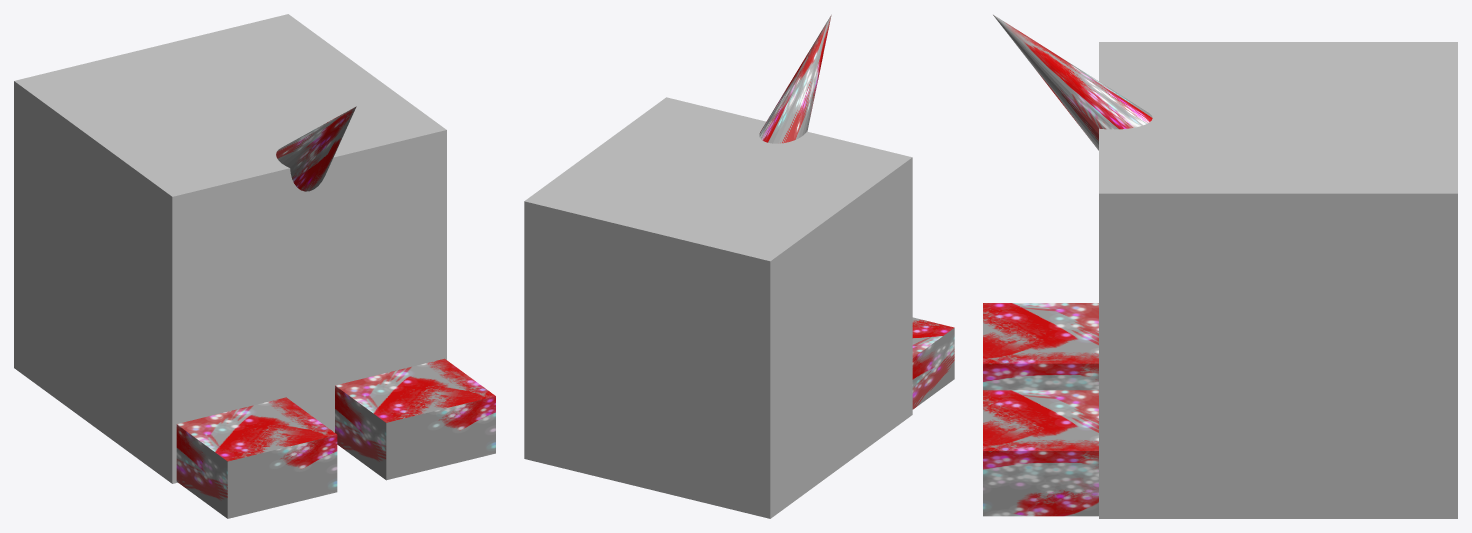
Rendered from player00.obj.
3 renders of one model, left to right at view 1: azimuth 30°, elevation 25°; view 2: azimuth 150°, elevation 25°; view 3: azimuth 270°, elevation 25°, orthographic. The views are drawn at different scales.
Visible parts, largest first — view 1: 円錐; view 2: 円錐; view 3: 円錐.
Part boxes in pixels (x1=…): 円錐: x1=14, y1=14, x2=495, y2=518; 円錐: x1=524, y1=14, x2=954, y2=518; 円錐: x1=983, y1=14, x2=1457, y2=518.
Size of the model in its own units: 0.5 by 0.6598 by 0.6614.
Materials: 2 (1 with a texture image).
